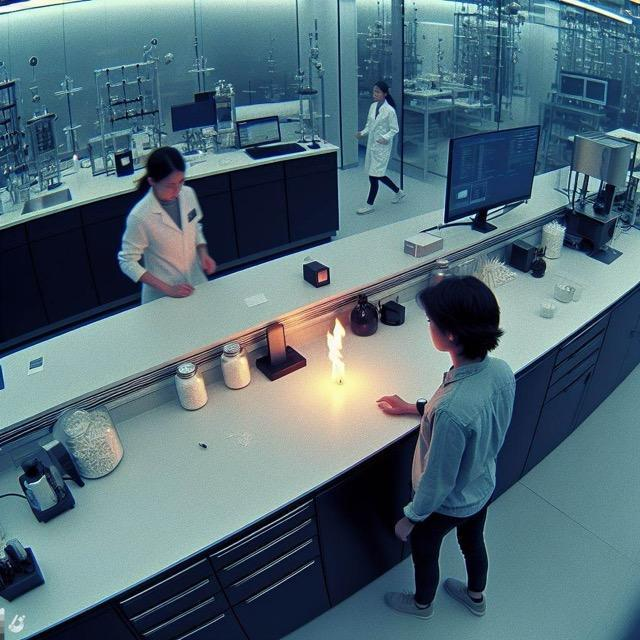smoke: (327, 319, 350, 383)
